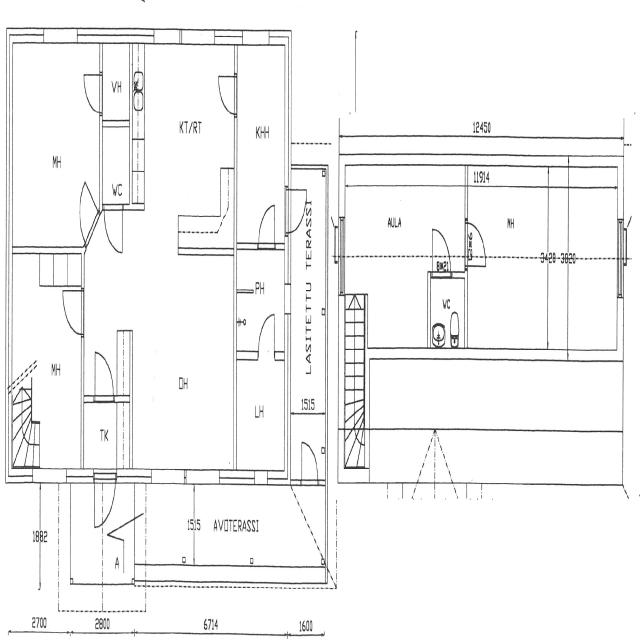door: (238, 250, 282, 358), (90, 343, 116, 403), (60, 281, 86, 337), (94, 469, 118, 528), (255, 197, 278, 251), (77, 184, 98, 243), (286, 180, 308, 233), (103, 202, 125, 254), (256, 308, 277, 359), (82, 66, 104, 114), (217, 68, 238, 117), (299, 438, 319, 486), (431, 223, 450, 270), (468, 220, 487, 260)
window: (180, 24, 217, 52), (150, 464, 187, 488), (241, 26, 278, 50), (35, 463, 69, 488), (188, 465, 220, 488), (252, 466, 270, 487)
zone: (130, 253, 234, 476), (9, 38, 100, 249), (134, 39, 235, 215), (8, 250, 84, 472), (235, 38, 288, 246), (235, 354, 286, 475), (235, 244, 286, 353), (566, 261, 620, 354), (82, 396, 130, 477), (101, 116, 131, 208), (101, 41, 131, 123), (430, 274, 465, 344)
